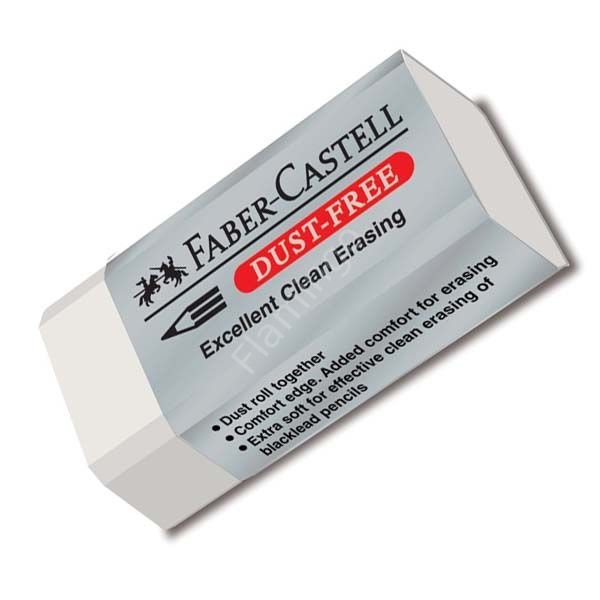eraser: (35, 45, 582, 534)
